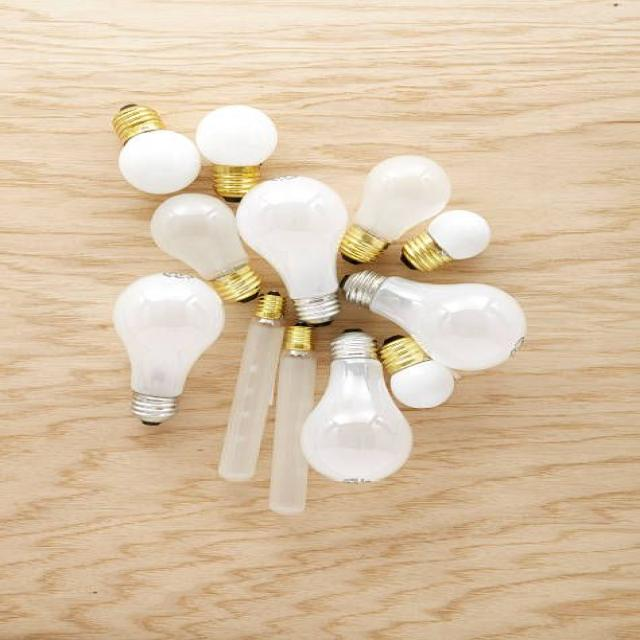electronic: (106, 100, 527, 514), (338, 268, 527, 371), (110, 270, 224, 424), (299, 330, 412, 483), (235, 174, 348, 325), (338, 152, 450, 264), (148, 192, 262, 302), (109, 102, 201, 195), (194, 104, 278, 198), (378, 333, 456, 409), (399, 208, 490, 272)
